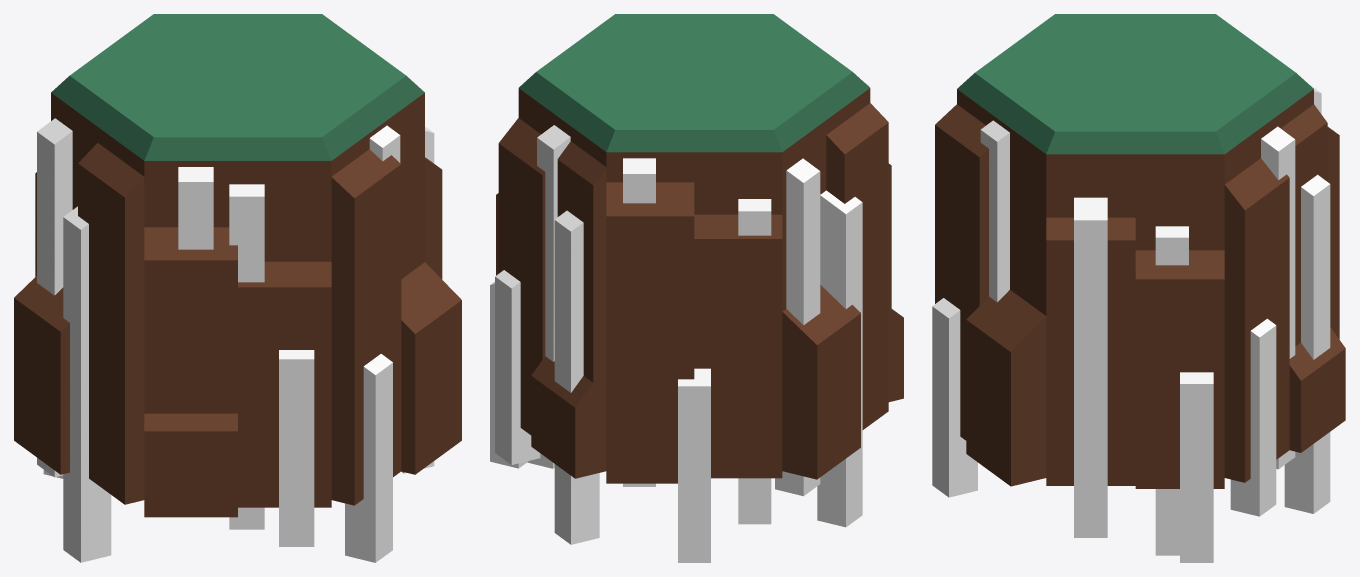
Rendered from Rock H2.fbx.
3 views of the same model, side by side, from view 1: azimuth 30°, elevation 25°; view 2: azimuth 150°, elevation 25°; view 3: azimuth 270°, elevation 25° (orthographic). The views are drawn at different scales.
Parts seen in each view (by area): view 1: Rock H2; view 2: Rock H2; view 3: Rock H2.
Boxes of the visible parts, box(x1,y1,x2,y2) form: Rock H2: box(14, 14, 461, 562); Rock H2: box(490, 14, 903, 562); Rock H2: box(932, 14, 1345, 562).
Size of the model in its own units: 218 by 259 by 232.
